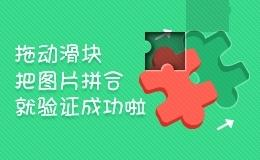target: (125, 13, 165, 51)
